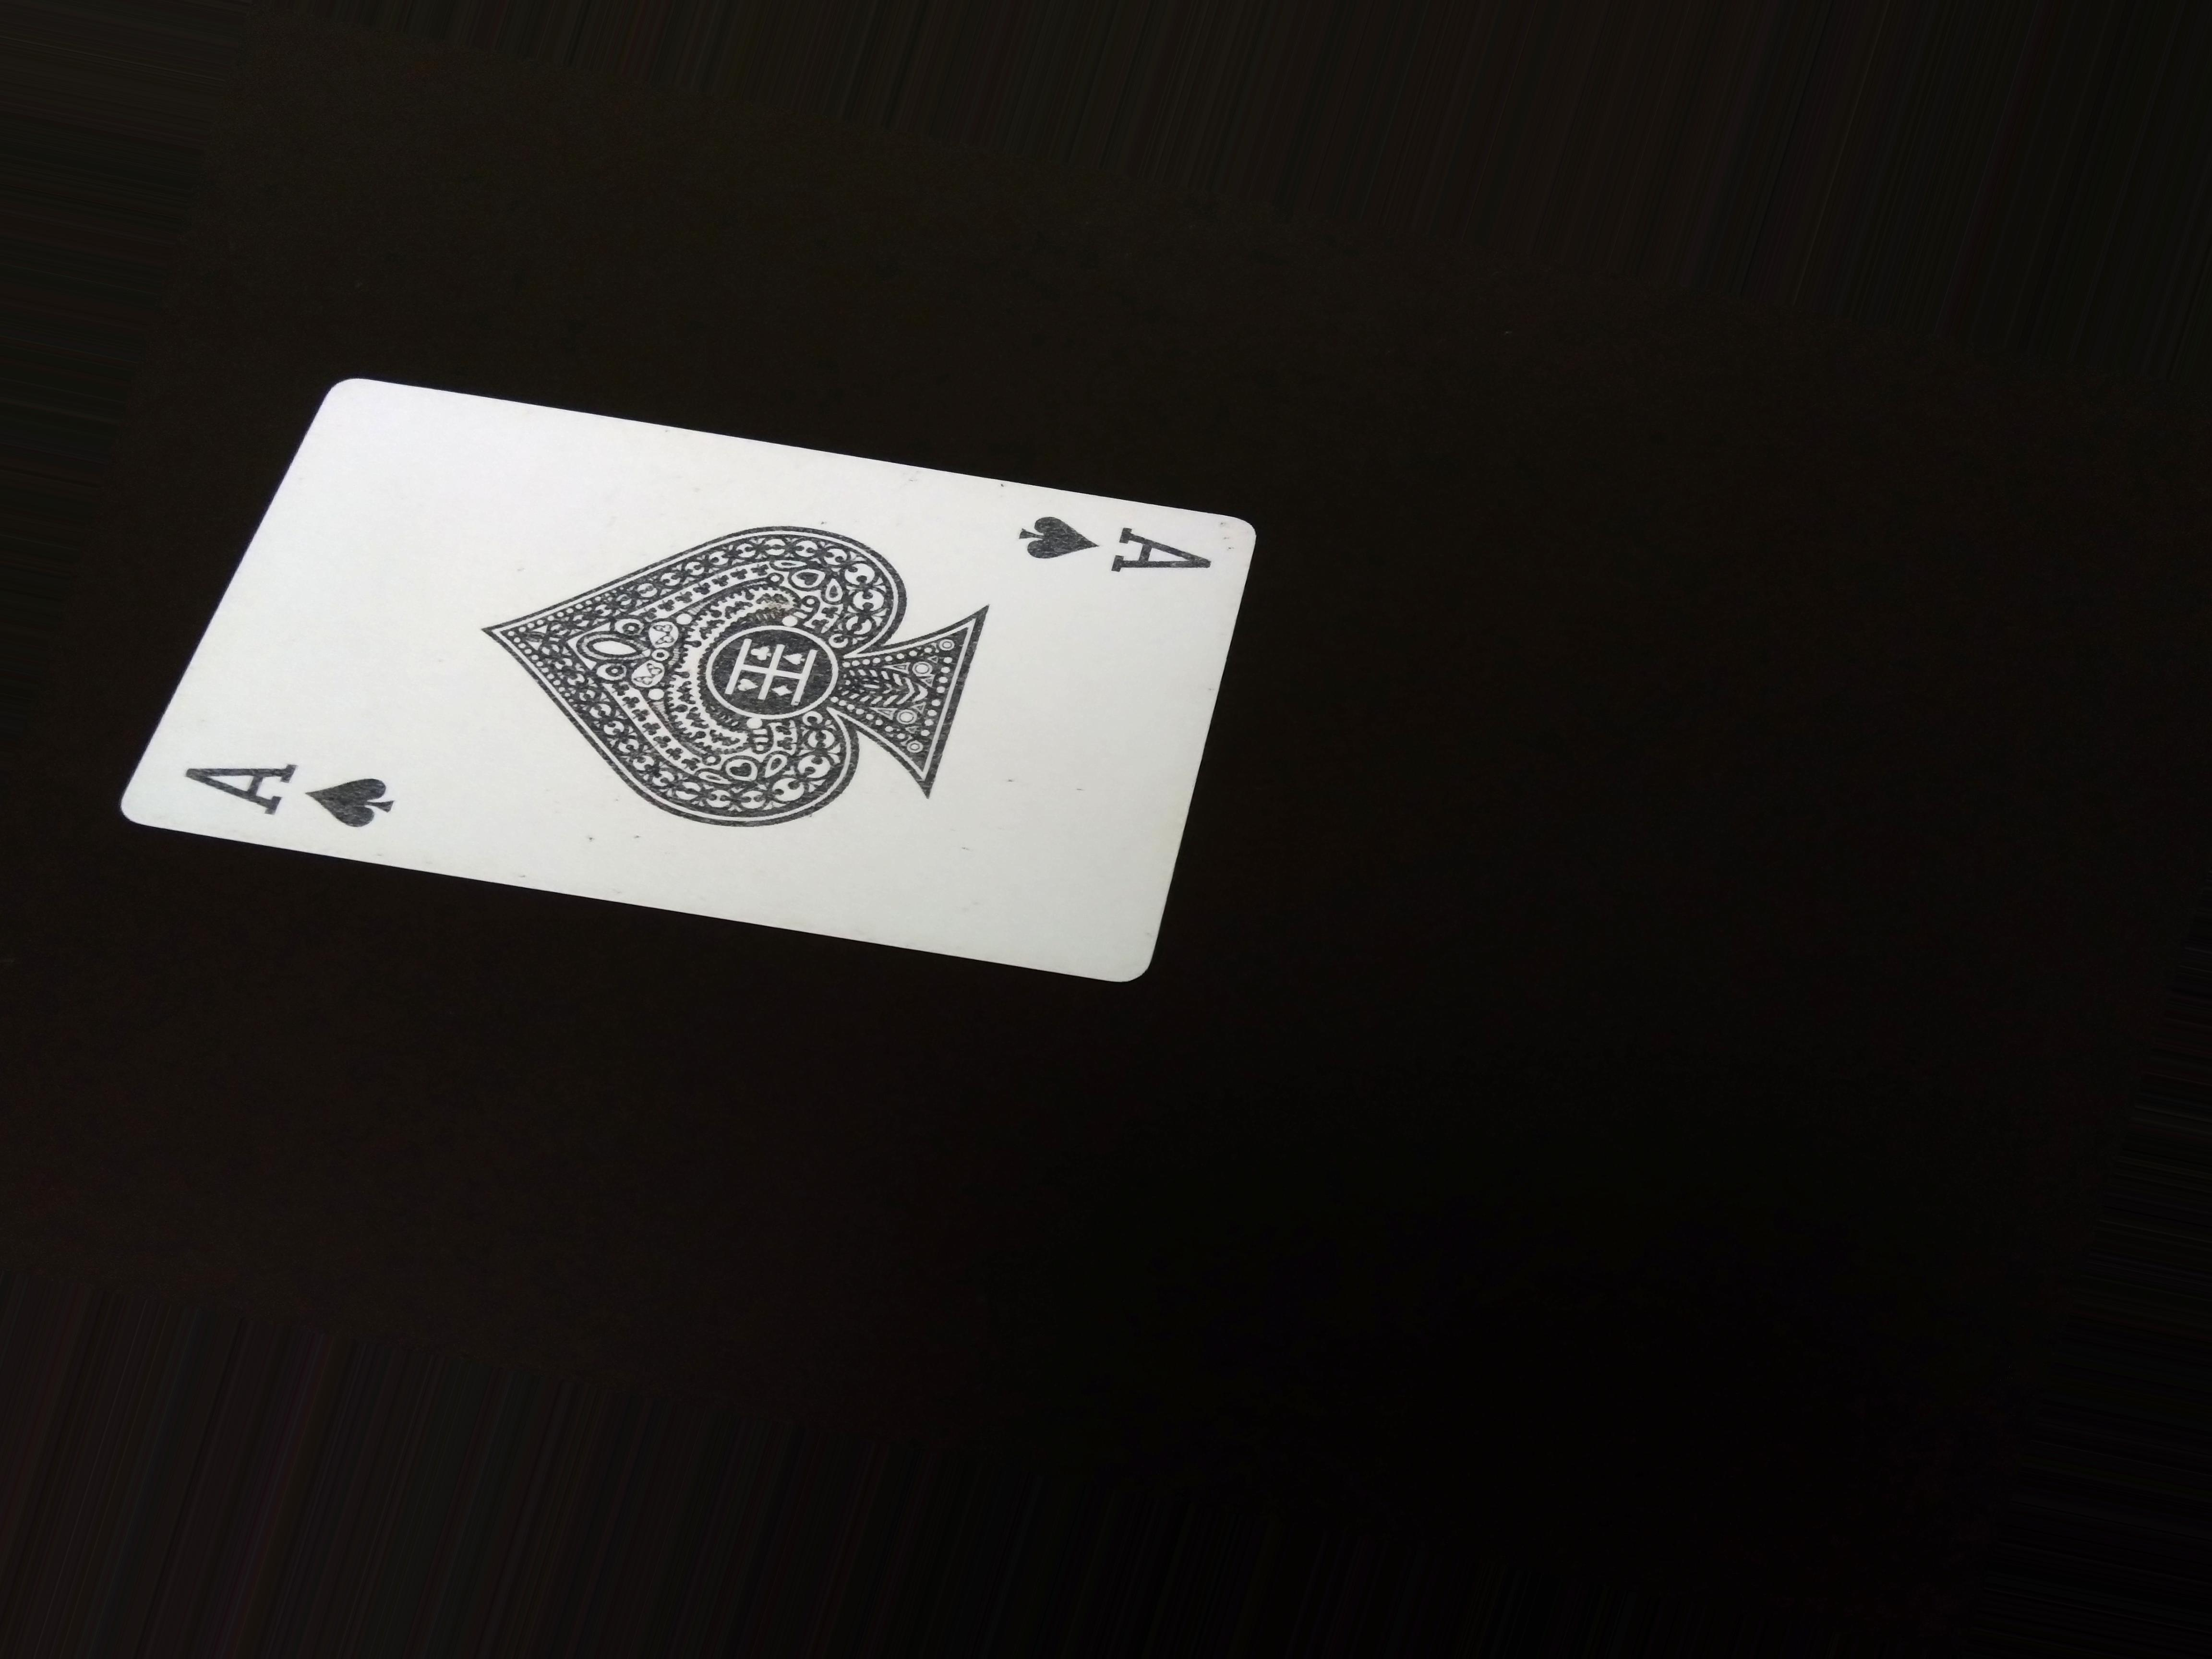AS: (167, 748, 420, 843)
